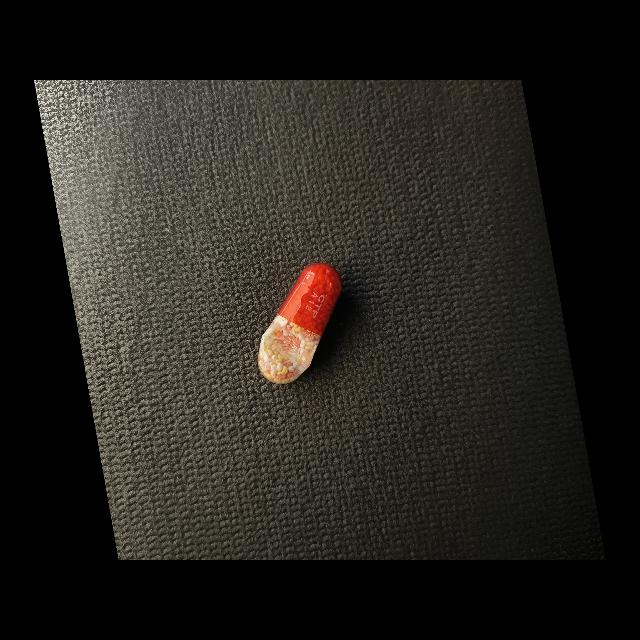Defective Capsule: (258, 263, 342, 384)
